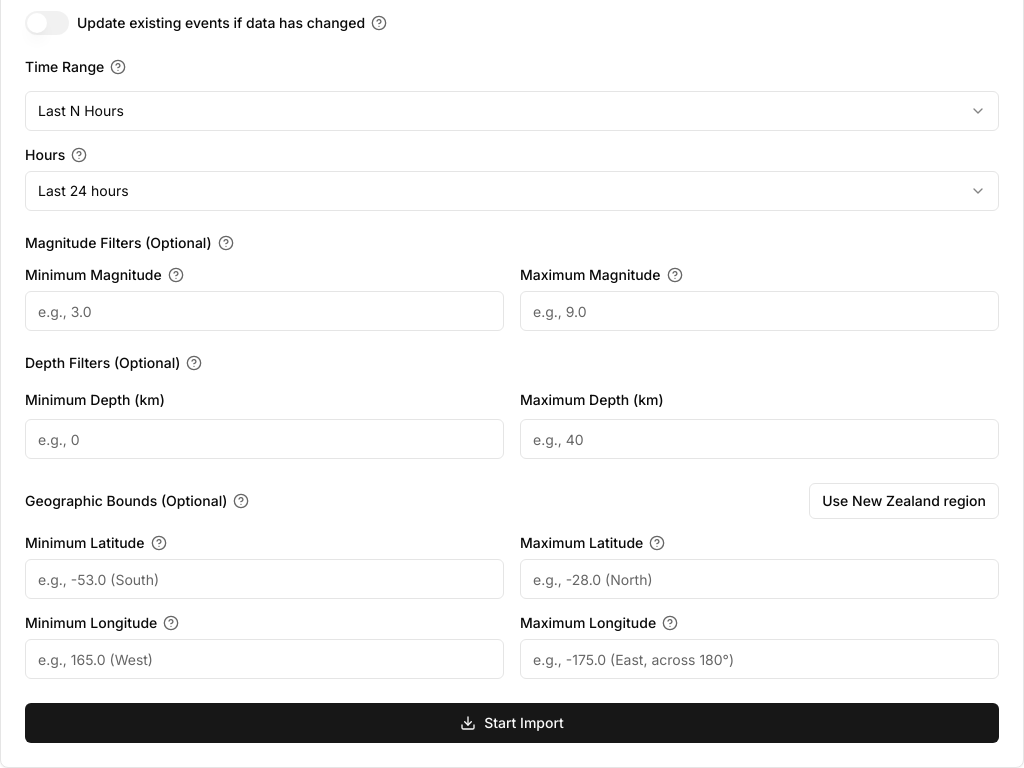
#109 result › shows the rows that were not imported, by reason
The width and height of the screenshot is (1024, 768).
(page scrolled)
Click the button "Start Import" at [512, 723], box [25, 703, 999, 743]
(page scrolled)
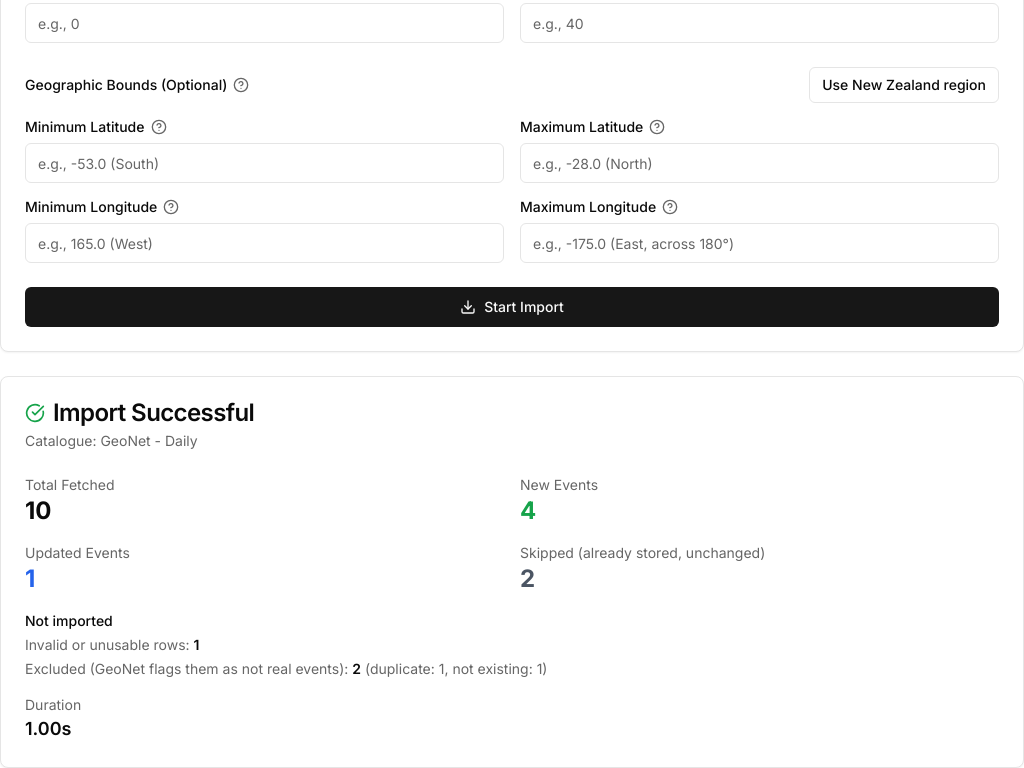
Now the list item "Excluded (GeoNet flags them as not real events)" is shown, box [25, 660, 344, 677]
Now the list item "duplicate: 1, not existing: 1" is shown, box [361, 660, 547, 677]
Now the list item "Invalid or unusable rows: 1" is shown, box [25, 636, 200, 653]
